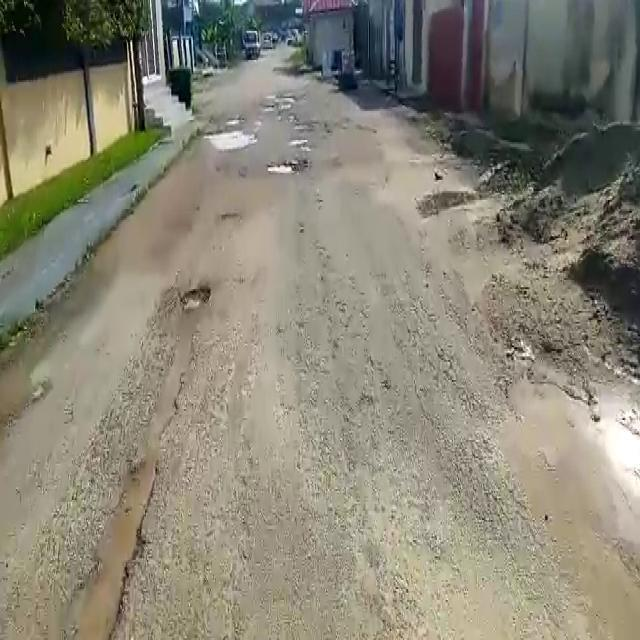pothole: (205, 125, 259, 153), (180, 281, 213, 309), (266, 158, 304, 176)
